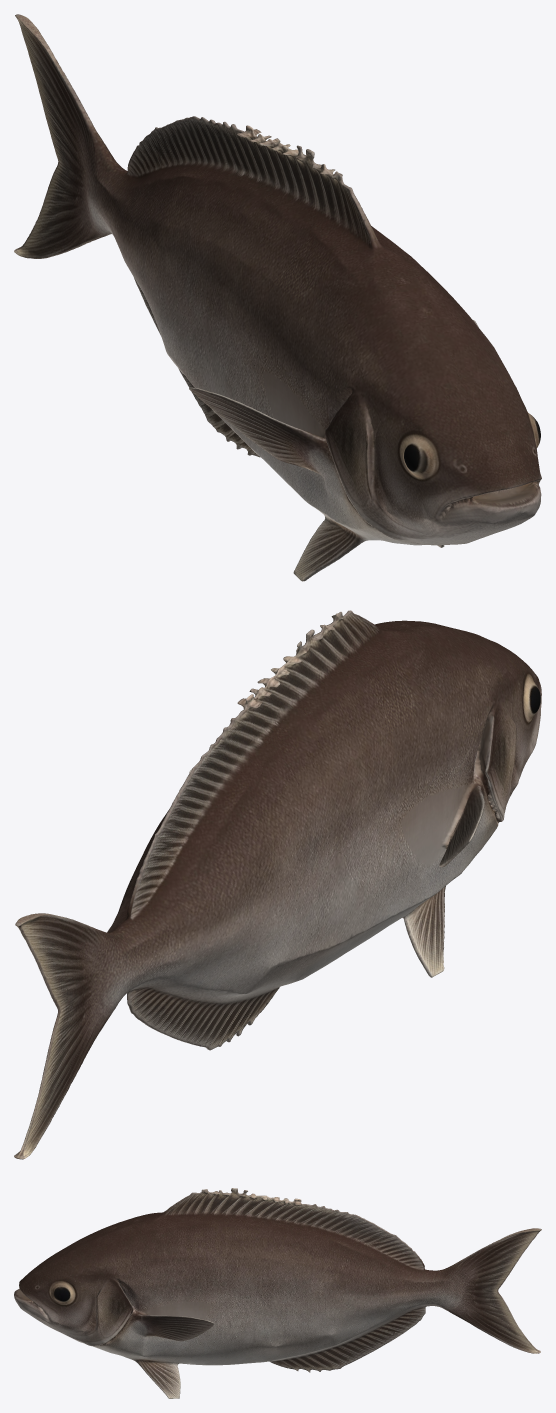
The model's file is medai-7d608e4a3861.glb.
The picture shows the model from 3 angles, top to bottom: view 1: azimuth 30°, elevation 25°; view 2: azimuth 150°, elevation 25°; view 3: azimuth 270°, elevation 25°; orthographic projection. The views are drawn at different scales.
Bounding box in the file's own units: 0.6103 × 0.7649 × 1.9.
Materials: 1 (1 with a texture image).
